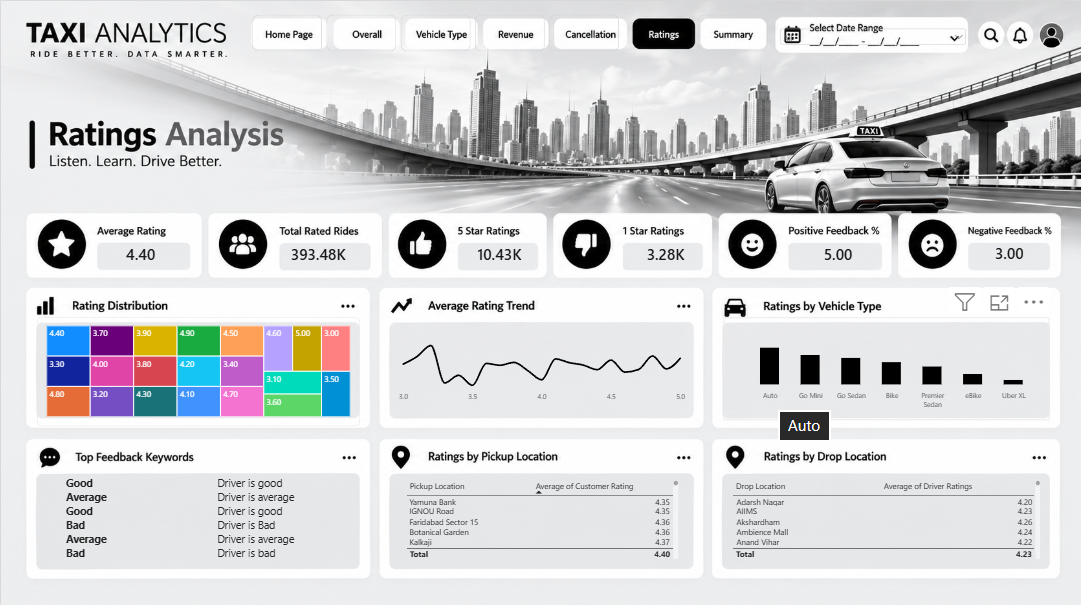

Layout of this report page (visuals, bound fields, positions):
{"tool":"powerbi","page":{"name":"Ratings","canvas":[1920,1080],"ordinal":5},"visuals":[{"type":"pageNavigator","box":[447,25.3,921.1,65.1],"z":0},{"type":"slicer","fields":{"Values":["rideBookings.Date"]},"box":[1379,45.2,340.2,45.2],"z":1000},{"type":"cardVisual","fields":{"Data":["Avg(rideBookings.Customer Rating)"]},"box":[173.7,427.1,150,45],"z":2000},{"type":"cardVisual","fields":{"Data":["Sum(rideBookings.Driver Ratings)"]},"box":[488.6,427.1,150,45],"z":3000},{"type":"cardVisual","fields":{"Data":["Sum(rideBookings.Customer Rating)"]},"box":[814.3,427.1,145,45],"z":4000},{"type":"cardVisual","fields":{"Data":["Sum(rideBookings.Customer Rating)"]},"box":[1109.3,427.1,145,45],"z":5000},{"type":"cardVisual","fields":{"Data":["Max(rideBookings.Customer Rating)"]},"box":[1415.2,427.1,145,45],"z":6000},{"type":"cardVisual","fields":{"Data":["Min(rideBookings.Customer Rating)"]},"box":[1719.2,425.3,145,45],"z":7000},{"type":"tableEx","fields":{"Values":["rideBookings.Pickup Location","Avg(rideBookings.Customer Rating)"]},"box":[704,837.9,515.8,170.1],"z":8000},{"type":"columnChart","fields":{"Category":["rideBookings.Vehicle Type"],"Y":["Sum(rideBookings.Customer Rating)"]},"box":[1284.9,562.8,579.1,181],"z":9000},{"type":"treemap","fields":{"Group":["rideBookings.Customer Rating"],"Values":["Avg(rideBookings.Driver Ratings)"]},"box":[65.1,562.8,573.7,193.6],"z":10000},{"type":"tableEx","fields":{"Values":["rideBookings.Drop Location","Avg(rideBookings.Driver Ratings)"]},"box":[1284.9,837.9,579.1,170.1],"z":11000},{"type":"lineChart","fields":{"Category":["rideBookings.Driver Ratings"],"Y":["Avg(rideBookings.Customer Rating)"]},"box":[689.5,562.8,544.7,170.1],"z":12000},{"type":"textbox","box":[115.8,845.1,183.3,163.3],"z":14000},{"type":"textbox","box":[385.5,845.1,206.7,163.3],"z":15000}]}

Visuals, with their boxes in screenshot pixels (x1, y1, x2, y2), scaled from the page's 1920x1080 canvas onto the 1081x605 screenshot:
pageNavigator: pyautogui.locateOnScreen(252, 14, 770, 51)
slicer - rideBookings.Date: pyautogui.locateOnScreen(776, 25, 968, 51)
cardVisual - Avg(rideBookings.Customer Rating): pyautogui.locateOnScreen(98, 239, 182, 264)
cardVisual - Sum(rideBookings.Driver Ratings): pyautogui.locateOnScreen(275, 239, 360, 264)
cardVisual - Sum(rideBookings.Customer Rating): pyautogui.locateOnScreen(458, 239, 540, 264)
cardVisual - Sum(rideBookings.Customer Rating): pyautogui.locateOnScreen(625, 239, 706, 264)
cardVisual - Max(rideBookings.Customer Rating): pyautogui.locateOnScreen(797, 239, 878, 264)
cardVisual - Min(rideBookings.Customer Rating): pyautogui.locateOnScreen(968, 238, 1050, 263)
tableEx - rideBookings.Pickup Location x Avg(rideBookings.Customer Rating): pyautogui.locateOnScreen(396, 469, 687, 565)
columnChart - rideBookings.Vehicle Type x Sum(rideBookings.Customer Rating): pyautogui.locateOnScreen(723, 315, 1049, 417)
treemap - rideBookings.Customer Rating x Avg(rideBookings.Driver Ratings): pyautogui.locateOnScreen(37, 315, 360, 424)
tableEx - rideBookings.Drop Location x Avg(rideBookings.Driver Ratings): pyautogui.locateOnScreen(723, 469, 1049, 565)
lineChart - rideBookings.Driver Ratings x Avg(rideBookings.Customer Rating): pyautogui.locateOnScreen(388, 315, 695, 411)
textbox: pyautogui.locateOnScreen(65, 473, 168, 565)
textbox: pyautogui.locateOnScreen(217, 473, 333, 565)
